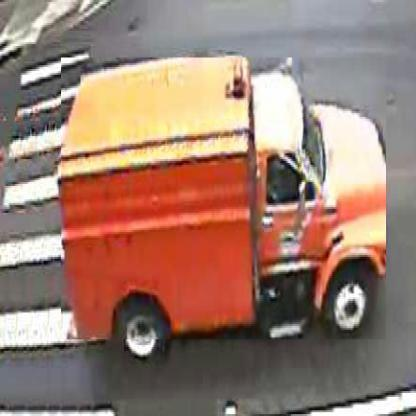truck: (62, 59, 388, 342)
